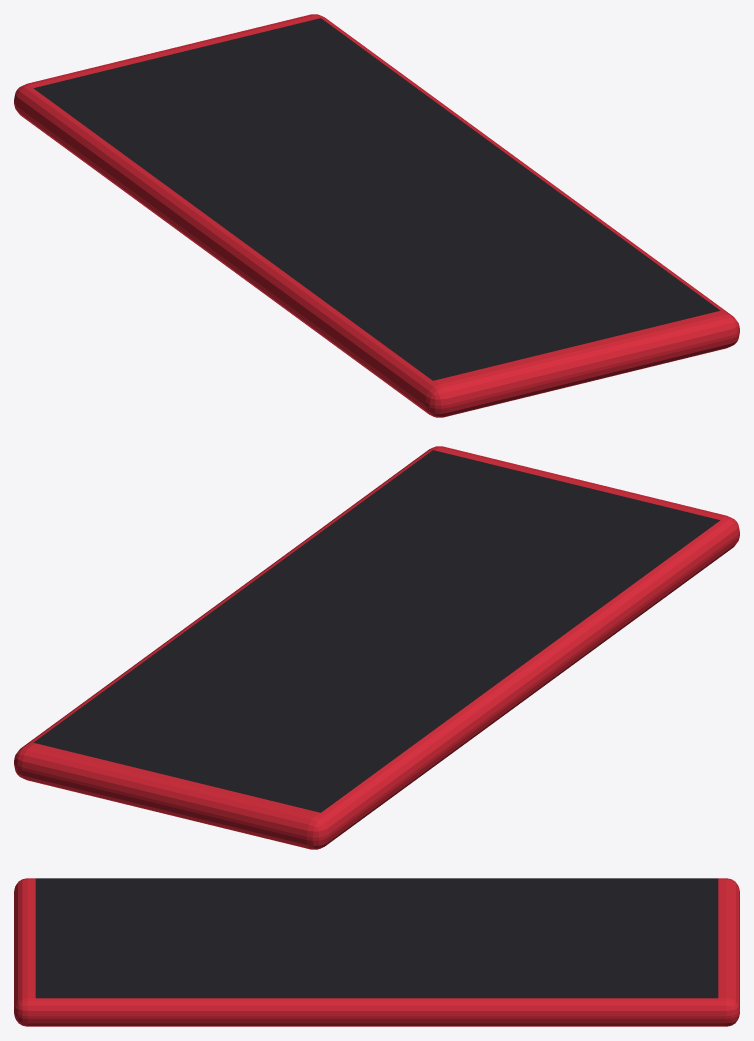
File: Phone_148.glb
3 views of the same model, one above another, from view 1: azimuth 30°, elevation 25°; view 2: azimuth 150°, elevation 25°; view 3: azimuth 270°, elevation 25° (orthographic). The views are drawn at different scales.
Visible parts, largest first — view 1: Phone_Screen, Phone_Body; view 2: Phone_Screen, Phone_Body; view 3: Phone_Screen, Phone_Body.
Boxes of the visible parts, x1,y1,x2,y2 form: Phone_Screen: (33, 18, 720, 380); Phone_Body: (14, 14, 739, 417); Phone_Screen: (33, 450, 720, 812); Phone_Body: (14, 446, 739, 849); Phone_Screen: (35, 878, 718, 998); Phone_Body: (14, 878, 739, 1026).
Size of the model in its own units: 0.0713 by 0.0071 by 0.168.
